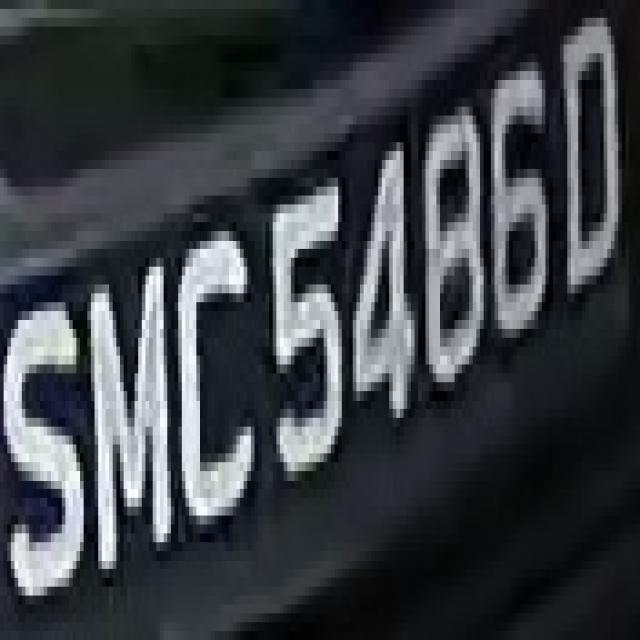4: (342, 116, 414, 453)
5: (262, 142, 345, 480)
6: (483, 44, 552, 364)
8: (408, 89, 488, 409)
C: (178, 213, 262, 542)
D: (553, 18, 629, 311)
M: (80, 249, 175, 595)
S: (7, 258, 80, 613)
